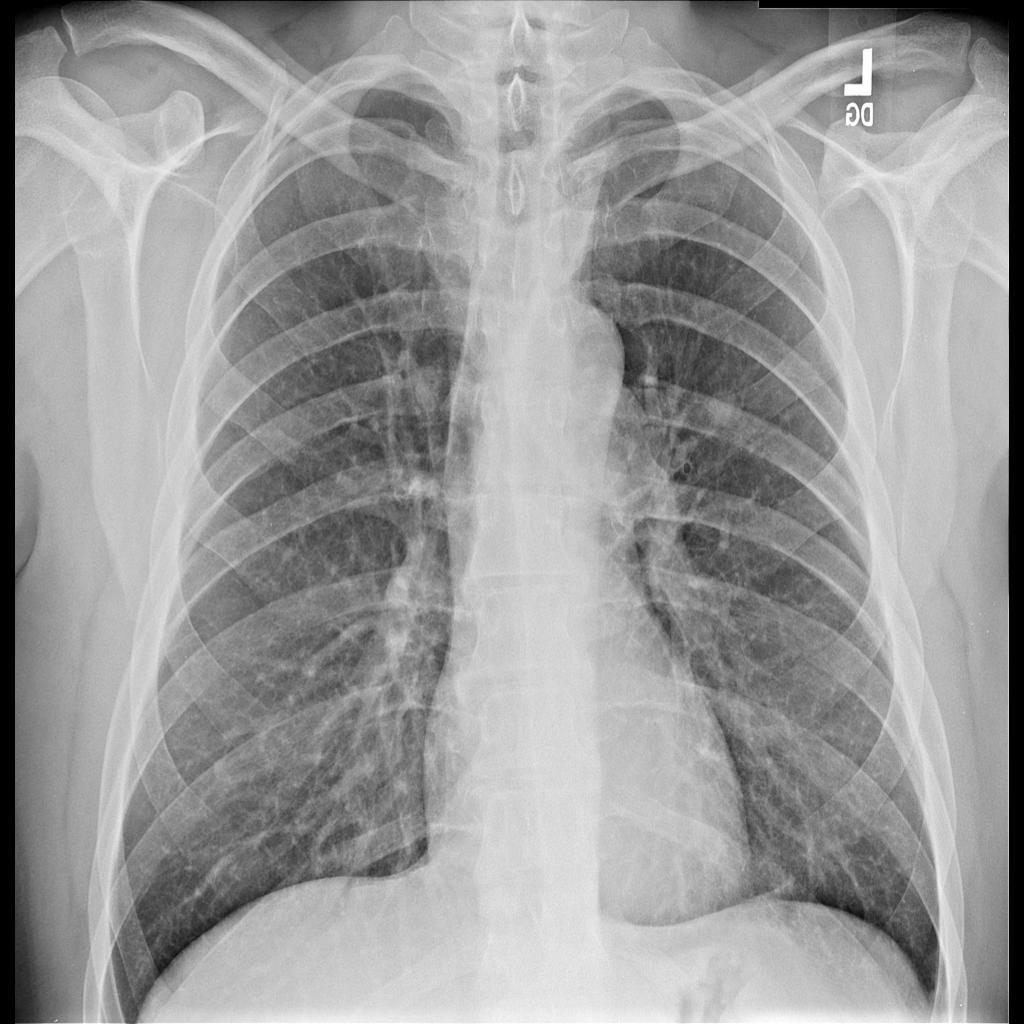Nodule: (707, 390, 748, 433)
